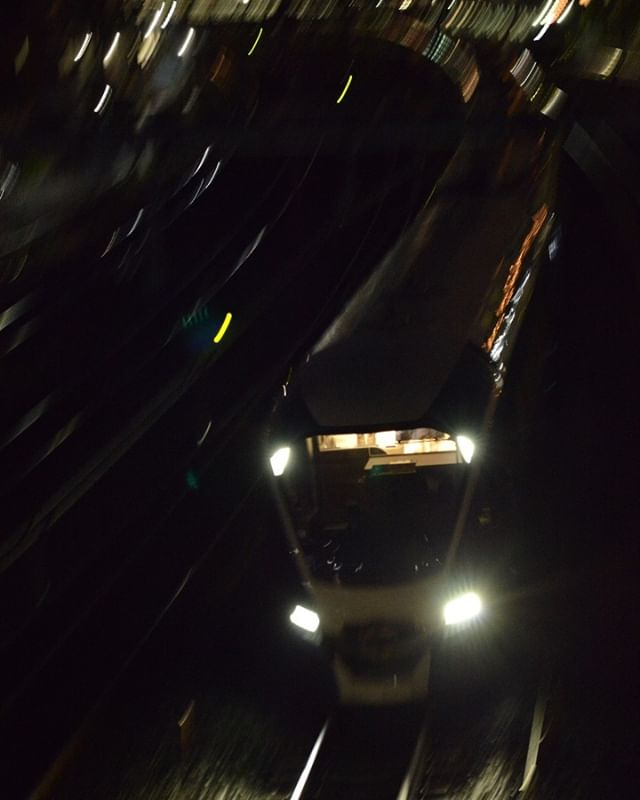train: (293, 87, 582, 670)
